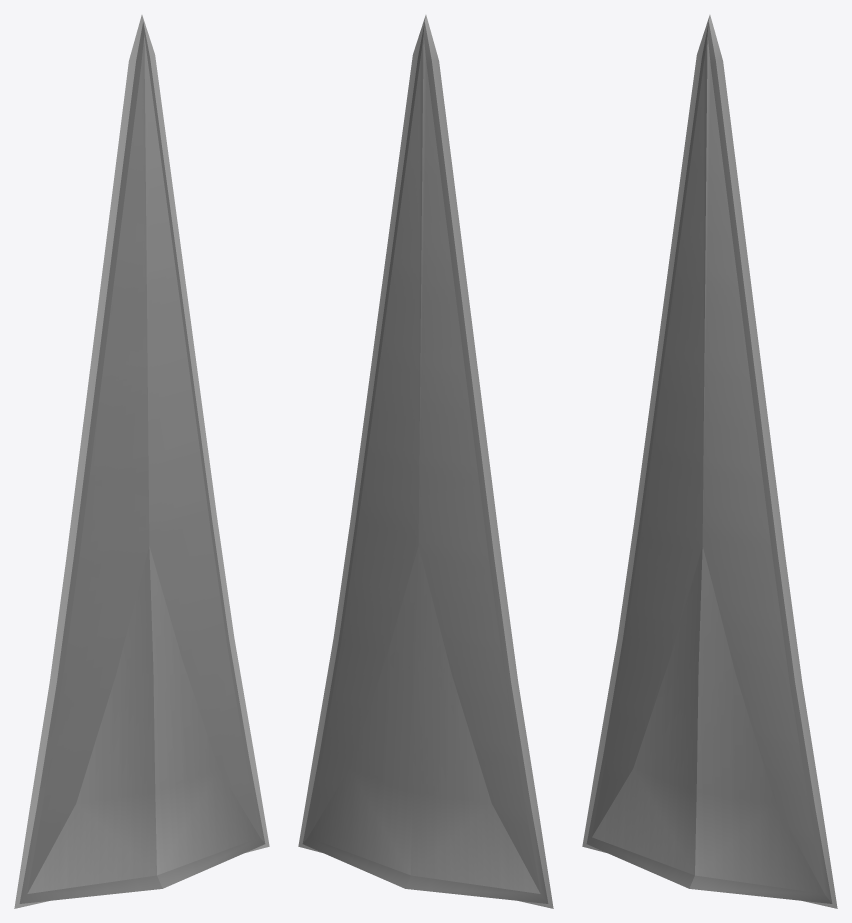
File: stone_blade (3).glb
3 views of the same model, side by side, from view 1: azimuth 30°, elevation 25°; view 2: azimuth 150°, elevation 25°; view 3: azimuth 330°, elevation 25° (orthographic).
Visible parts, largest first — view 1: stone_blade_unscratched.023; view 2: stone_blade_unscratched.023; view 3: stone_blade_unscratched.023.
Part boxes in pixels (left/top/right/bottom): stone_blade_unscratched.023: left=14, top=15, right=269, bottom=908; stone_blade_unscratched.023: left=298, top=15, right=553, bottom=908; stone_blade_unscratched.023: left=582, top=15, right=837, bottom=908.
Bounding box in the file's own units: 3.52 × 11.43 × 0.9907.
Materials: 1 (1 with a texture image).
